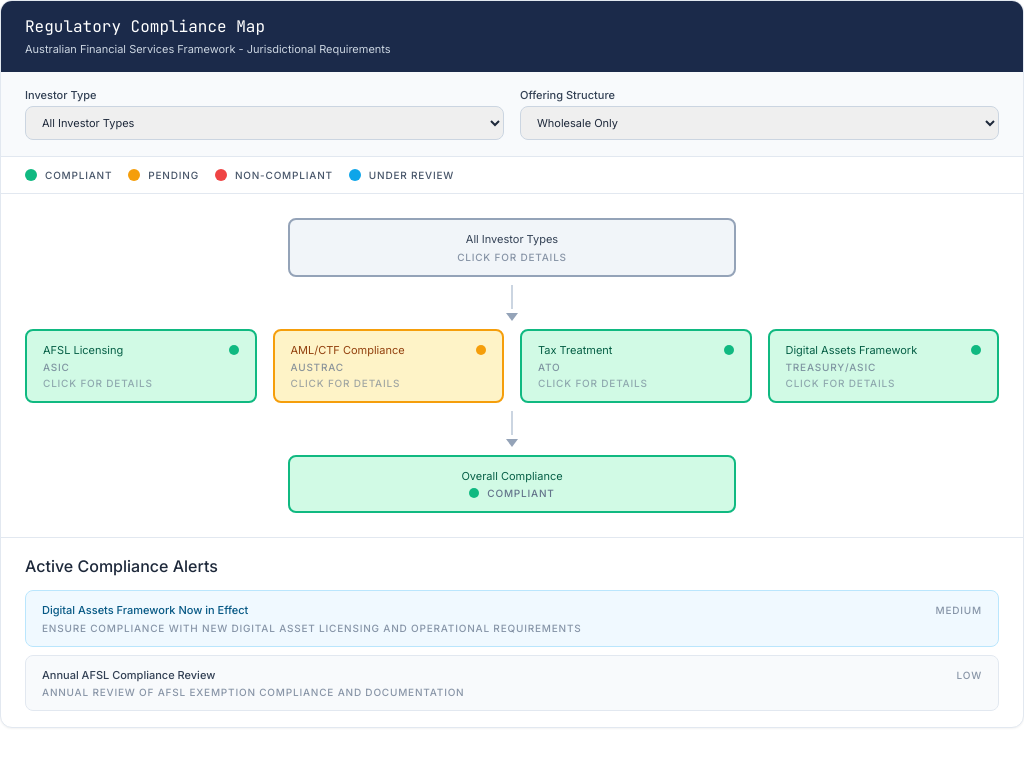
RegulatoryMap Component › clicking a node shows detail panel
The width and height of the screenshot is (1024, 768).
Click AFSL node
Click the button with test id "node-afsl": x=141, y=366 [25,329,256,403]
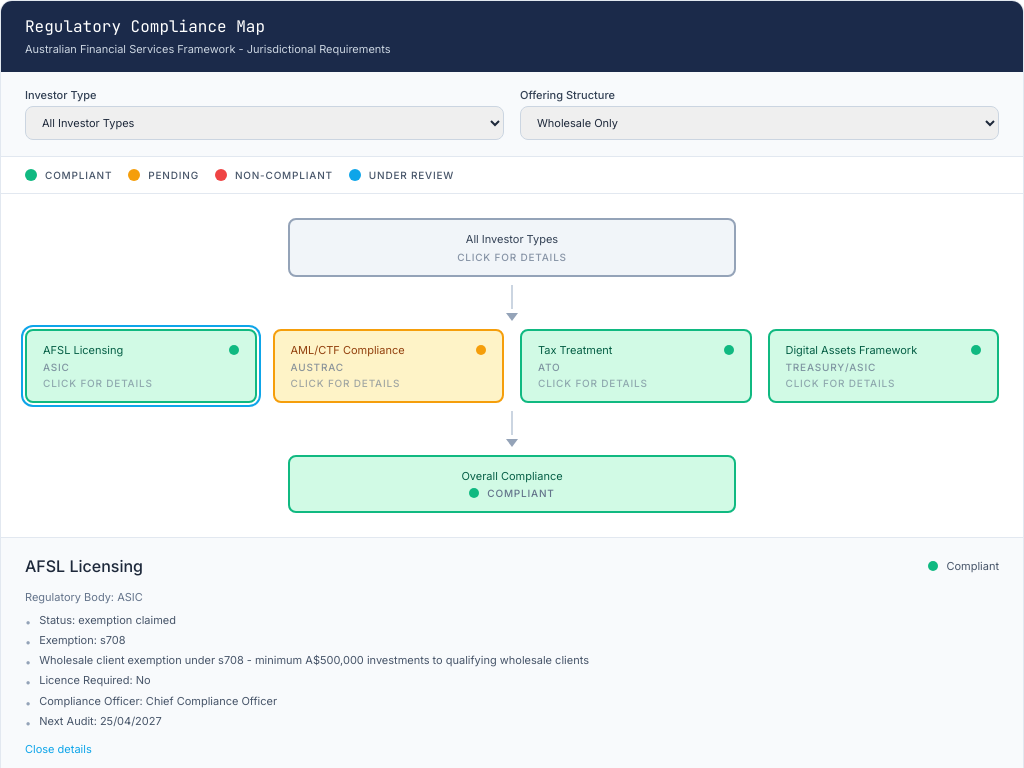
Check: the heading "AFSL Licensing" is shown, box [25,554,143,578]
Check: the text "Regulatory Body: ASIC" is shown, box [25,590,143,604]
